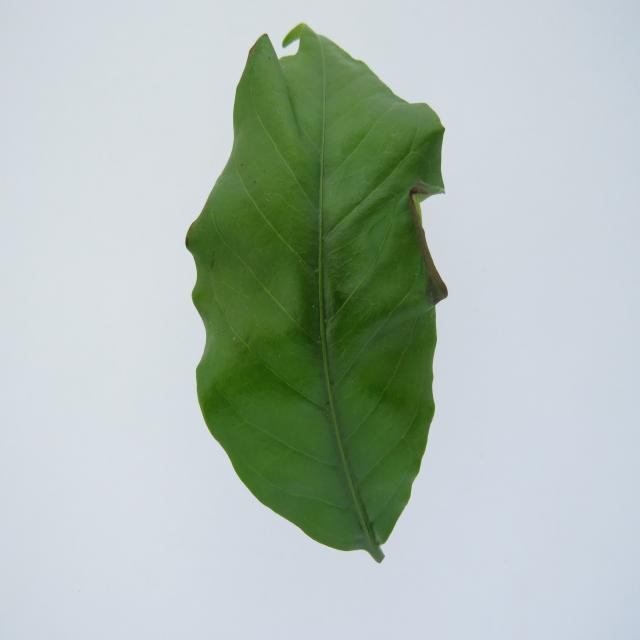DeficienciaNutricional-Calcio: (186, 23, 448, 562)
